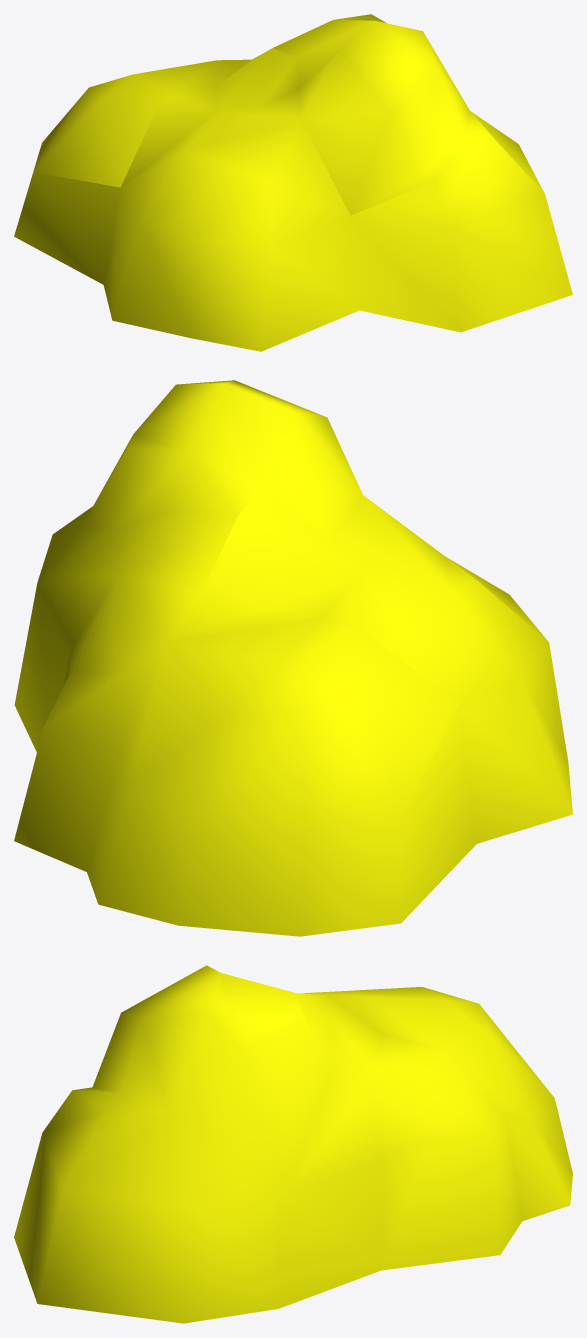
File: thing_rock00.glb
3 views of the same model, one above another, from view 1: azimuth 30°, elevation 25°; view 2: azimuth 150°, elevation 25°; view 3: azimuth 270°, elevation 25° (orthographic). The views are drawn at different scales.
Parts seen in each view (by area): view 1: objStaticMeshActor_353; view 2: objStaticMeshActor_353; view 3: objStaticMeshActor_353.
Boxes of the visible parts, box(x1,y1,x2,y2) form: objStaticMeshActor_353: box(14, 14, 572, 351); objStaticMeshActor_353: box(14, 380, 572, 936); objStaticMeshActor_353: box(14, 965, 572, 1323).
Bounding box in the file's own units: 32.35 × 18.39 × 34.64.
Materials: 1 (1 with a texture image).
